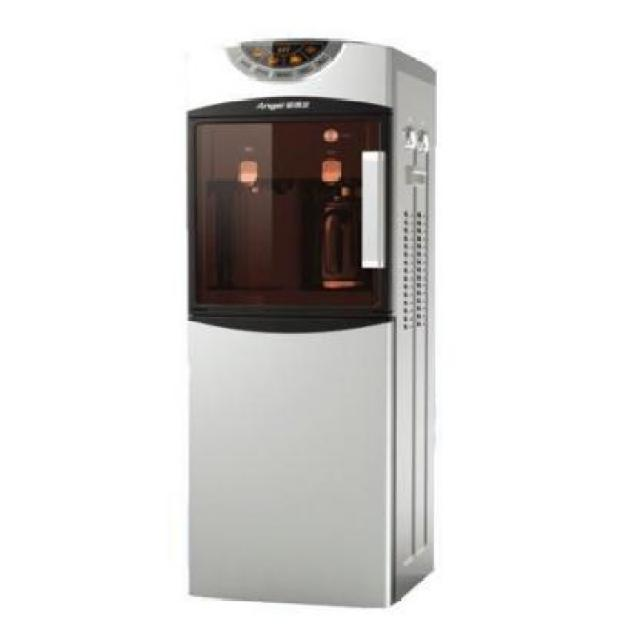cooler: (178, 36, 442, 612)
